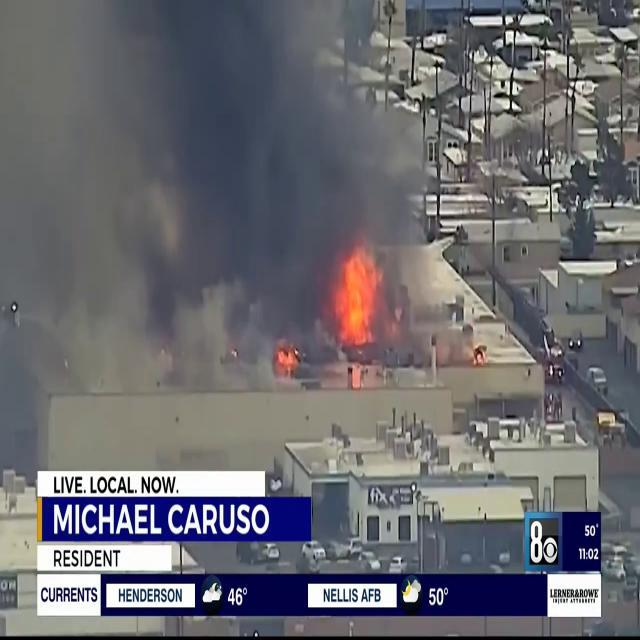Fire: (330, 239, 388, 354)
Smoke: (0, 1, 428, 370)
